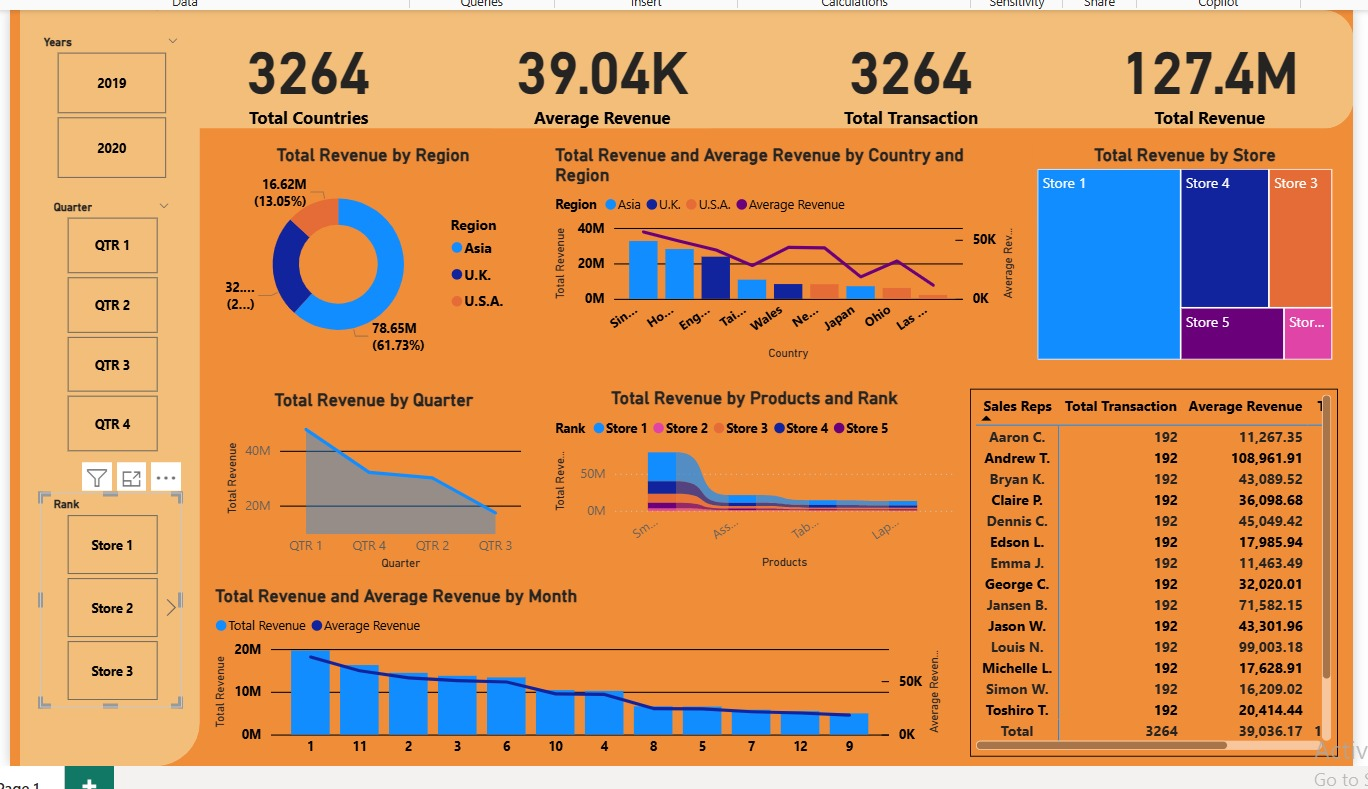

What the dashboard file says about the page in this screenshot:
{"tool":"powerbi","page":{"name":"Page 1","canvas":[1280,720],"ordinal":0},"visuals":[{"type":"shape","box":[9.6,0,171.5,720.4],"z":0},{"type":"shape","box":[140.5,0,1139.3,113.1],"z":1000},{"type":"card","fields":{"Values":["measures (2).Total Countries"]},"box":[181,0,207.1,127.4],"z":2000},{"type":"card","fields":{"Values":["measures (2).Average Revenue"]},"box":[460.7,0,207.1,127.4],"z":3000},{"type":"card","fields":{"Values":["measures (2).Total Transaction"]},"box":[754.8,0,207.1,127.4],"z":4000},{"type":"card","fields":{"Values":["measures (2).Total Revenue"]},"box":[1039.3,0,207.1,127.4],"z":5000},{"type":"donutChart","fields":{"Category":["Sheet1.Region"],"Y":["measures (2).Total Revenue"]},"box":[201.2,127.4,289.3,210.7],"z":6000},{"type":"lineStackedColumnComboChart","fields":{"Y":["measures (2).Total Revenue"],"Category":["Sheet1.Country"],"Y2":["measures (2).Average Revenue"],"Series":["Sheet1.Region"]},"box":[514.3,127.4,447.6,210.7],"z":7000},{"type":"treemap","title":"Total Revenue by Store","fields":{"Values":["measures (2).Total Revenue"],"Group":["Sheet1.Rank"]},"box":[973.8,127.4,290.5,210.7],"z":8000},{"type":"areaChart","fields":{"Y":["measures (2).Total Revenue"],"Category":["Sheet1.Quarter"]},"box":[201.2,360.7,290.5,177.4],"z":9000},{"type":"ribbonChart","fields":{"Y":["measures (2).Total Revenue"],"Category":["Sheet1.Products"],"Series":["Sheet1.Rank"]},"box":[514.3,359.5,389.3,177.4],"z":10000},{"type":"pivotTable","fields":{"Rows":["Sheet1.Sales Reps"],"Values":["measures (2).Total Transaction","measures (2).Average Revenue","measures (2).Total Revenue"]},"box":[914.3,360.7,350,350],"z":10001},{"type":"lineStackedColumnComboChart","fields":{"Y":["measures (2).Total Revenue"],"Category":["Sheet1.Month"],"Y2":["measures (2).Average Revenue"]},"box":[190.5,547.6,701.2,172.6],"z":10002},{"type":"slicer","fields":{"Values":["Sheet1.Years"]},"box":[19.2,19.2,153.7,148.2],"z":10003},{"type":"slicer","fields":{"Values":["Sheet1.Quarter"]},"box":[28.8,175.6,135.8,251.1],"z":10004},{"type":"slicer","fields":{"Values":["Sheet1.Rank"]},"box":[28.8,459.7,135.8,204.5],"z":10005}]}

Visuals, with their boxes on the page's 1280x720 design canvas (x1, y1, x2, y2). These are canvas units, not pixel positions in the 1368x789 screenshot, which may show the page scaled, cropped or inside an application window:
shape: x1=10 y1=0 x2=181 y2=720
shape: x1=140 y1=0 x2=1280 y2=113
card - measures (2).Total Countries: x1=181 y1=0 x2=388 y2=127
card - measures (2).Average Revenue: x1=461 y1=0 x2=668 y2=127
card - measures (2).Total Transaction: x1=755 y1=0 x2=962 y2=127
card - measures (2).Total Revenue: x1=1039 y1=0 x2=1246 y2=127
donutChart - Sheet1.Region x measures (2).Total Revenue: x1=201 y1=127 x2=490 y2=338
lineStackedColumnComboChart - measures (2).Total Revenue x Sheet1.Country: x1=514 y1=127 x2=962 y2=338
"Total Revenue by Store" treemap: x1=974 y1=127 x2=1264 y2=338
areaChart - measures (2).Total Revenue x Sheet1.Quarter: x1=201 y1=361 x2=492 y2=538
ribbonChart - measures (2).Total Revenue x Sheet1.Products: x1=514 y1=360 x2=904 y2=537
pivotTable - Sheet1.Sales Reps x measures (2).Total Transaction: x1=914 y1=361 x2=1264 y2=711
lineStackedColumnComboChart - measures (2).Total Revenue x Sheet1.Month: x1=190 y1=548 x2=892 y2=720
slicer - Sheet1.Years: x1=19 y1=19 x2=173 y2=167
slicer - Sheet1.Quarter: x1=29 y1=176 x2=165 y2=427
slicer - Sheet1.Rank: x1=29 y1=460 x2=165 y2=664
